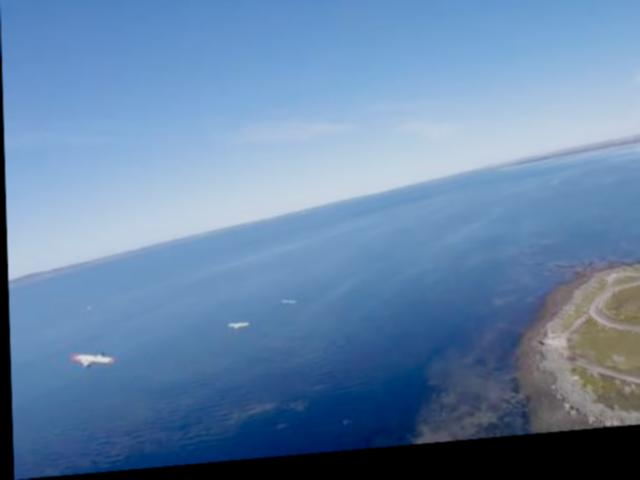uav: (66, 346, 114, 371), (225, 320, 250, 336)
